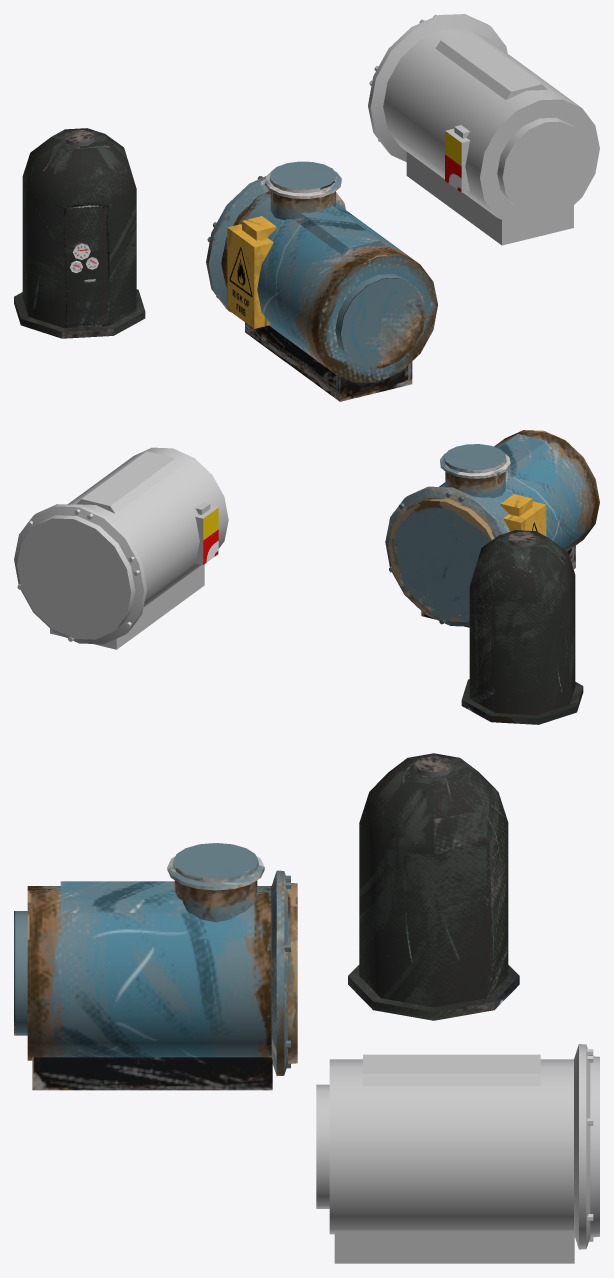
File: propy V2.fbx
3 renders of one model, top to bottom at view 1: azimuth 30°, elevation 25°; view 2: azimuth 150°, elevation 25°; view 3: azimuth 270°, elevation 25°, orthographic. The views are drawn at different scales.
Parts seen in each view (by area): view 1: Cylinder.012, Cylinder.008, Cylinder.013; view 2: Cylinder.008, Cylinder.012, Cylinder.013; view 3: Cylinder.012, Cylinder.008, Cylinder.013.
Part boxes in pixels (left/top/right/bottom): Cylinder.012: left=206, top=161, right=437, bottom=401; Cylinder.008: left=368, top=14, right=599, bottom=245; Cylinder.013: left=14, top=128, right=145, bottom=338; Cylinder.008: left=14, top=447, right=228, bottom=649; Cylinder.012: left=385, top=430, right=599, bottom=627; Cylinder.013: left=461, top=530, right=583, bottom=724; Cylinder.012: left=14, top=843, right=297, bottom=1090; Cylinder.008: left=316, top=1044, right=599, bottom=1263; Cylinder.013: left=348, top=753, right=519, bottom=1020.
Bounding box in the file's own units: 246 × 76.17 × 181.
